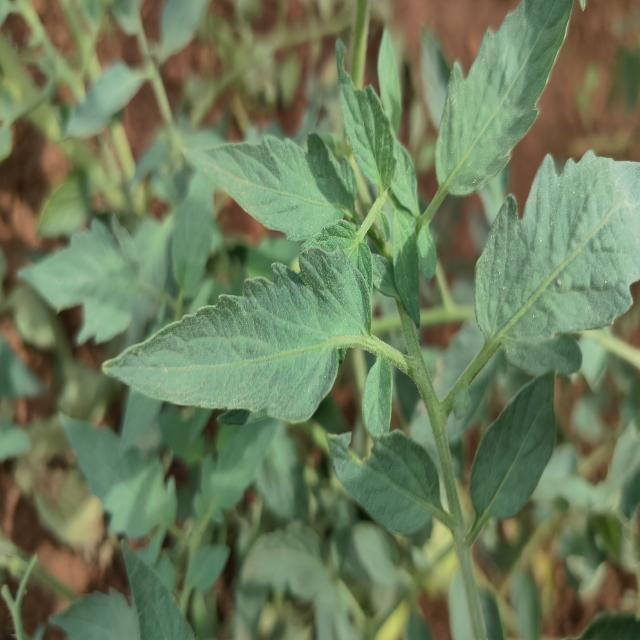tomato_healthy: (99, 222, 374, 419), (475, 150, 640, 342), (436, 0, 574, 195), (186, 132, 357, 240), (468, 372, 556, 546), (329, 430, 452, 536), (336, 38, 396, 192), (59, 416, 145, 506), (392, 196, 421, 326), (362, 354, 392, 439)
